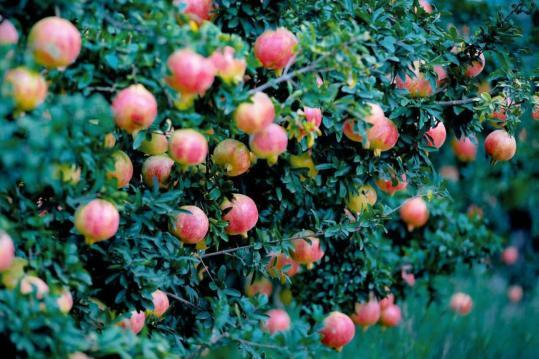apple: (26, 16, 82, 69), (2, 62, 47, 115), (111, 83, 158, 133), (74, 198, 120, 242), (254, 27, 299, 71), (234, 92, 275, 134), (220, 193, 258, 234), (317, 312, 354, 349), (174, 207, 208, 242), (364, 117, 398, 151), (141, 154, 175, 188), (484, 129, 516, 161), (399, 197, 430, 227), (290, 236, 324, 263), (451, 135, 477, 161), (264, 308, 290, 334)
